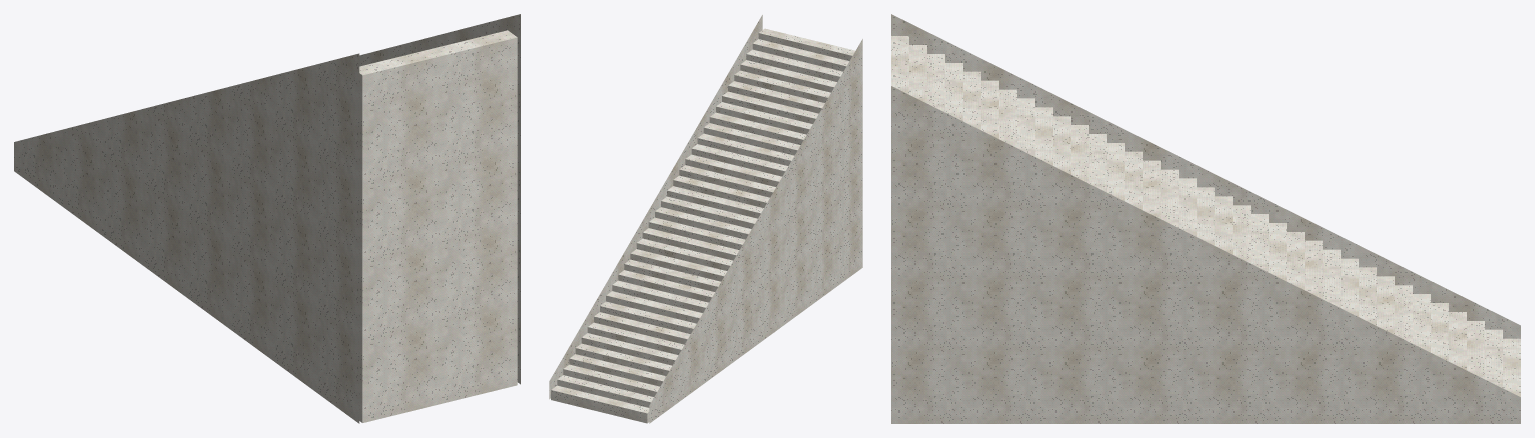
Rendered from escalinata_alta.obj.
The picture shows the model from 3 angles, left to right: view 1: azimuth 30°, elevation 25°; view 2: azimuth 150°, elevation 25°; view 3: azimuth 270°, elevation 25°; orthographic projection. The views are drawn at different scales.
Visible parts, largest first — view 1: escalinata_alta; view 2: escalinata_alta; view 3: escalinata_alta.
Part boxes in pixels (<box>): escalinata_alta: <box>14,14,520,423</box>; escalinata_alta: <box>549,15,862,423</box>; escalinata_alta: <box>891,14,1520,423</box>.
Size of the model in its own units: 5.2 by 11.4 by 19.25.
1 material, 1 textured.
